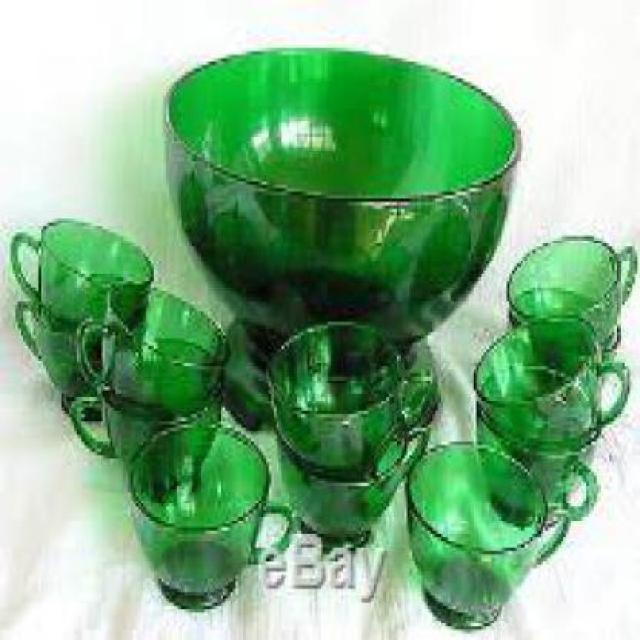kaca: (158, 42, 517, 430), (123, 411, 294, 612), (404, 439, 568, 626), (263, 316, 435, 476), (470, 308, 628, 442), (74, 277, 228, 414), (277, 417, 435, 548), (505, 229, 637, 360), (8, 216, 149, 330), (474, 404, 597, 528), (66, 377, 220, 475), (11, 291, 134, 411)
